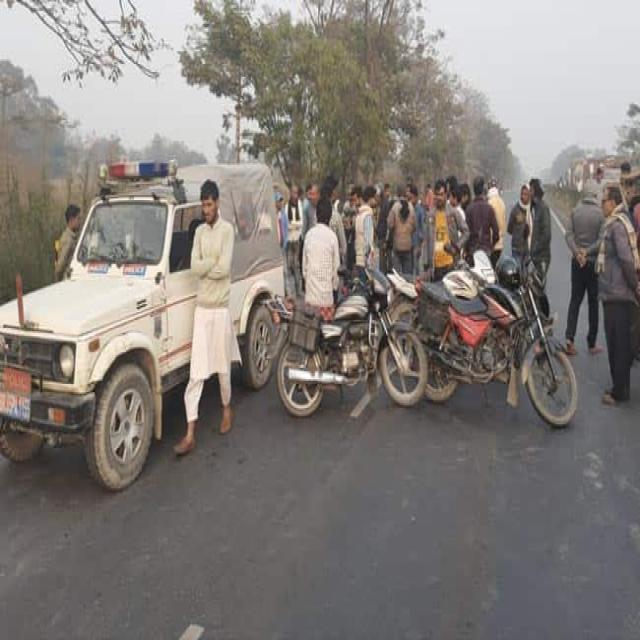car: (0, 162, 282, 490)
motorcycle: (416, 258, 578, 427), (271, 268, 426, 415)
